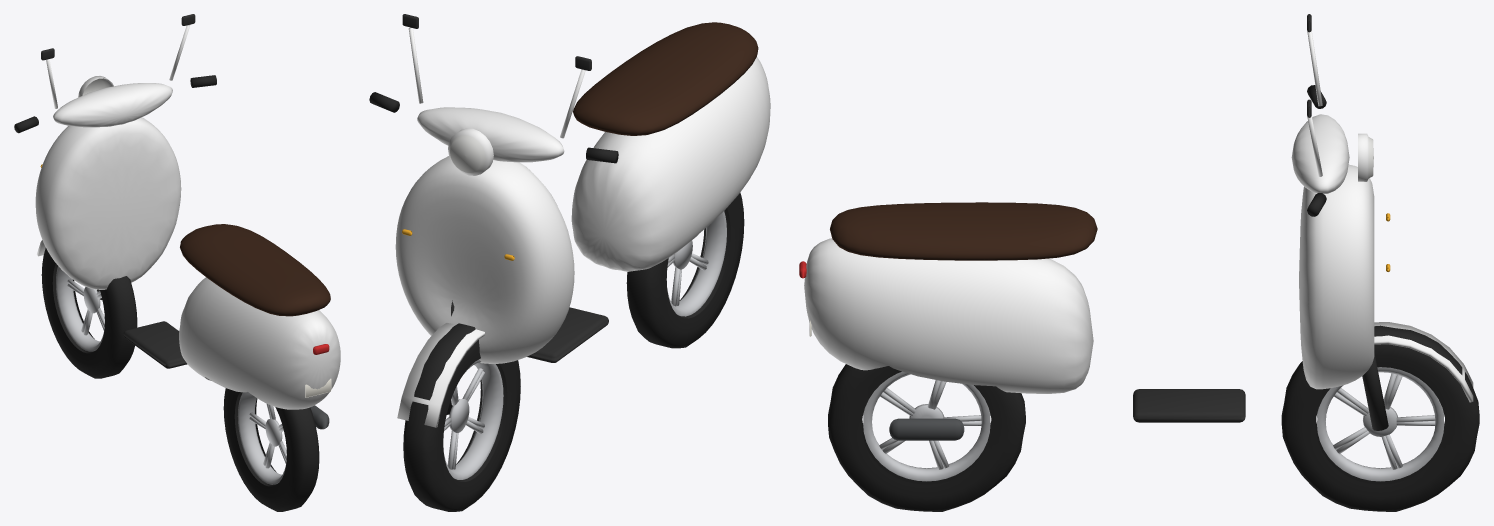
The model's file is scooter_0.glb.
3 views of the same model, side by side, from view 1: azimuth 30°, elevation 25°; view 2: azimuth 150°, elevation 25°; view 3: azimuth 270°, elevation 25° (orthographic). The views are drawn at different scales.
Visible parts, largest first — view 1: body, wheel_1, wheel_0; view 2: body, wheel_0, wheel_1; view 3: body, wheel_0, wheel_1.
Boxes of the visible parts, bbox=[...] form: body: bbox=[14, 14, 340, 429]; wheel_1: bbox=[223, 388, 319, 511]; wheel_0: bbox=[41, 248, 137, 378]; body: bbox=[369, 14, 770, 427]; wheel_0: bbox=[403, 323, 520, 511]; wheel_1: bbox=[626, 192, 744, 348]; body: bbox=[799, 14, 1473, 440]; wheel_0: bbox=[1281, 325, 1479, 511]; wheel_1: bbox=[828, 364, 1025, 511].
Size of the model in its own units: 0.7682 by 1.32 by 1.81.
